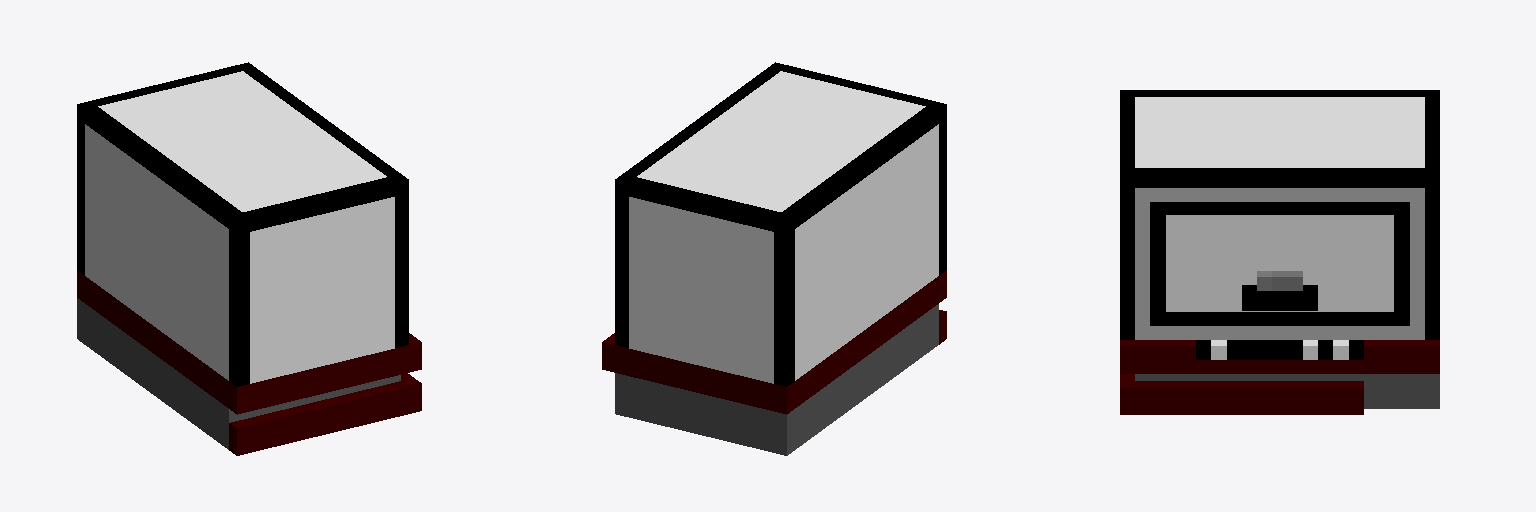
3 views of the same model, side by side, from view 1: azimuth 30°, elevation 25°; view 2: azimuth 150°, elevation 25°; view 3: azimuth 270°, elevation 25° (orthographic).
Visible parts, largest first — view 1: object 1; view 2: object 1; view 3: object 1.
Boxes of the visible parts, box(x1,y1,x2,y2) form: object 1: box(77, 62, 421, 455); object 1: box(602, 62, 946, 455); object 1: box(1120, 90, 1439, 414).
Size of the model in its own units: 1.5 by 1.7 by 2.1.
Materials: 1 (1 with a texture image).